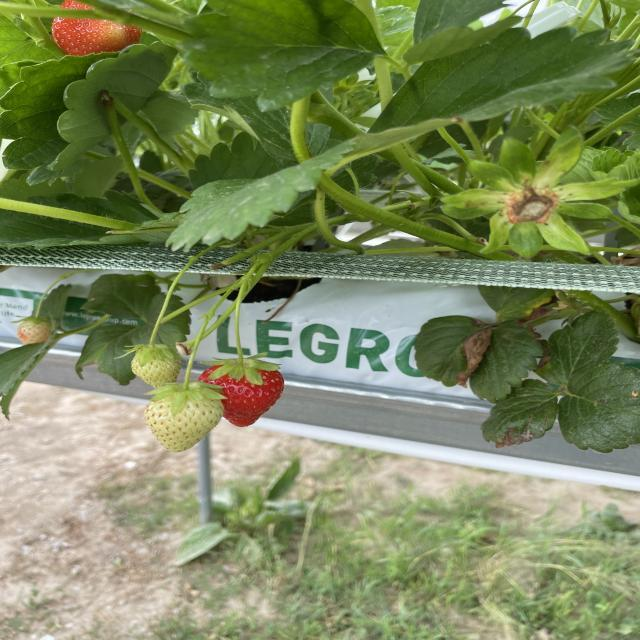stem: (151, 314, 222, 413), (216, 283, 276, 383), (125, 276, 175, 362)
strawberryNR: (147, 397, 219, 451), (132, 353, 178, 387)
strawberryR: (213, 371, 283, 424)
